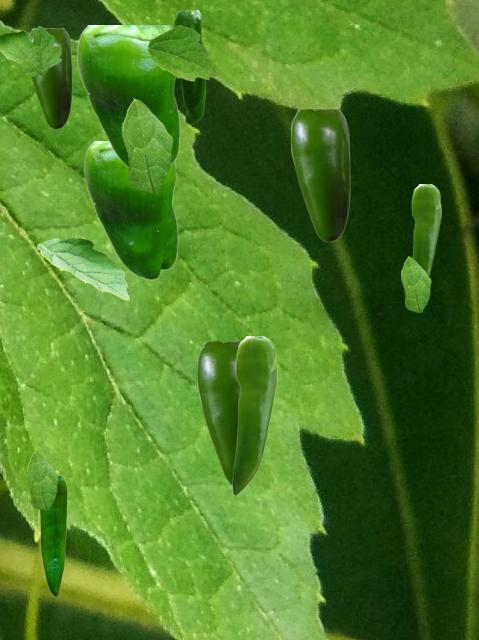green_chili: (76, 25, 179, 168), (83, 141, 177, 279), (197, 341, 255, 485), (291, 109, 349, 241), (232, 336, 276, 494), (30, 28, 71, 128), (174, 10, 204, 123), (39, 476, 66, 595), (411, 184, 440, 276)
